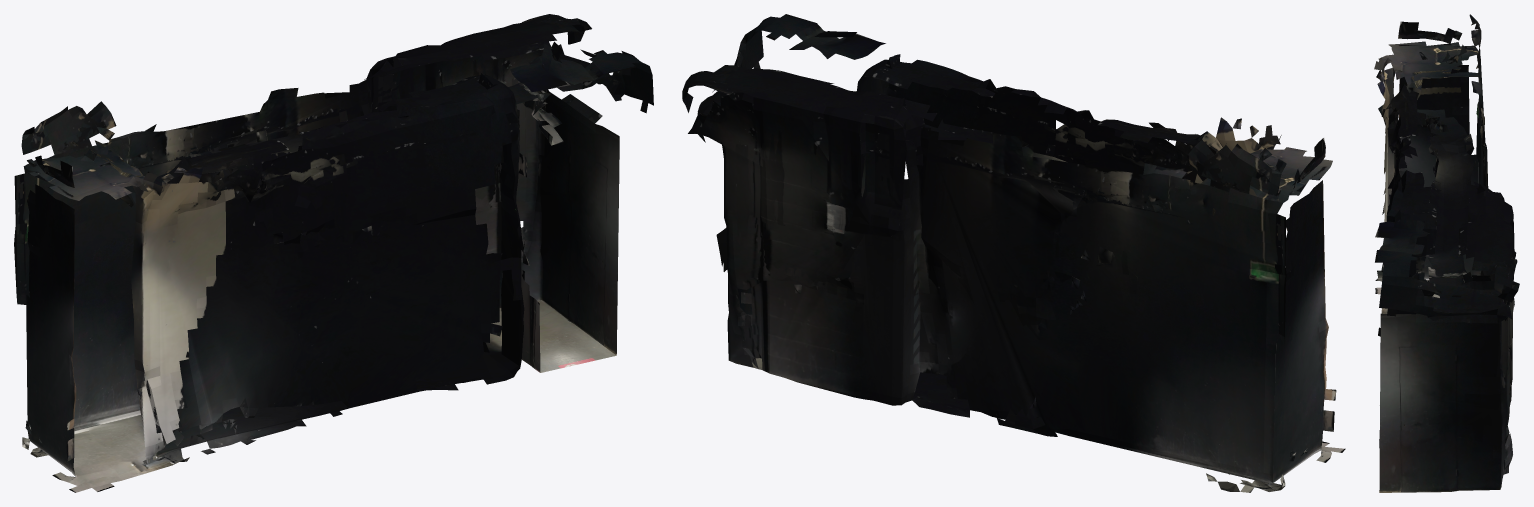
File: Dark_room-IM.fbx
3 views of the same model, side by side, from view 1: azimuth 30°, elevation 25°; view 2: azimuth 150°, elevation 25°; view 3: azimuth 270°, elevation 25° (orthographic). The views are drawn at different scales.
Visible parts, largest first — view 1: Dark_room-IM; view 2: Dark_room-IM; view 3: Dark_room-IM.
Part boxes in pixels (x1,y1,x2,y2): Dark_room-IM: (14,14,653,492); Dark_room-IM: (682,14,1345,492); Dark_room-IM: (1374,14,1519,492).
Bounding box in the file's own units: 685 × 392 × 178.
Materials: 1 (1 with a texture image).
